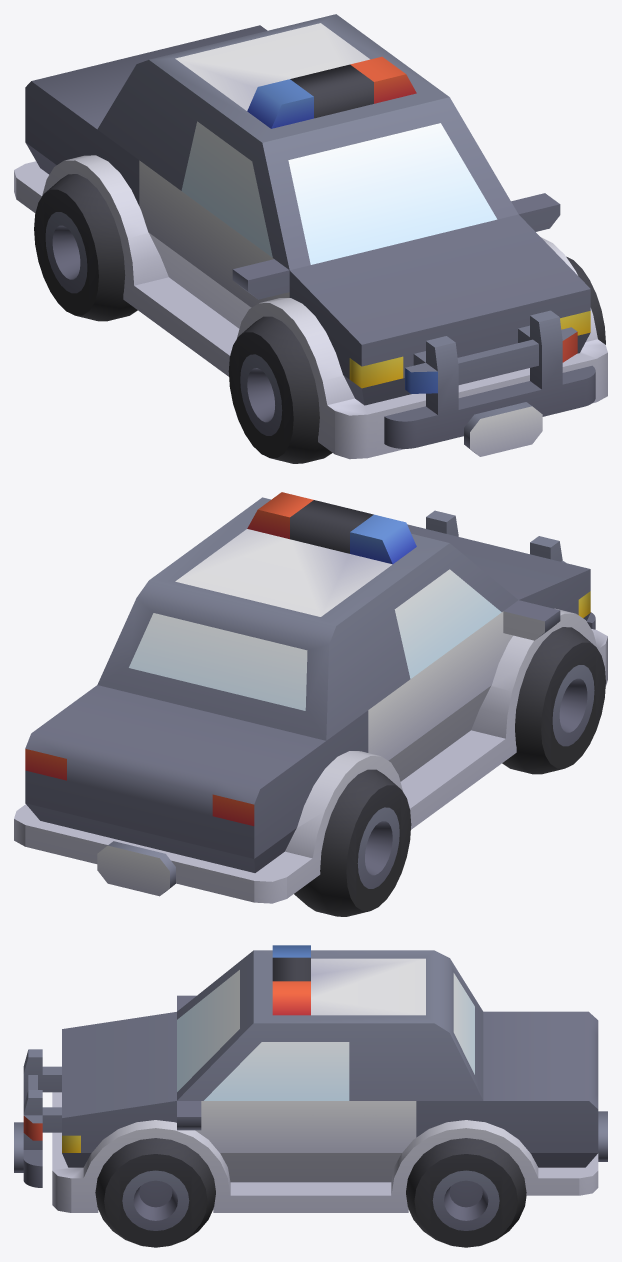
Rendered from car_police.glb.
3 renders of one model, top to bottom at view 1: azimuth 30°, elevation 25°; view 2: azimuth 150°, elevation 25°; view 3: azimuth 270°, elevation 25°, orthographic. The views are drawn at different scales.
Visible parts, largest first — view 1: body, grill, wheel_fl_mesh, wheel_rl_mesh, wheel_fr_mesh; view 2: body, wheel_rl_mesh, wheel_fl_mesh, grill; view 3: body, wheel_rr_mesh, wheel_fr_mesh, grill.
Boxes of the visible parts, box(x1,y1,x2,y2) form: body: box(14, 14, 607, 459); grill: box(384, 310, 595, 456); wheel_fl_mesh: box(228, 316, 332, 463); wheel_rl_mesh: box(34, 174, 137, 321); wheel_fr_mesh: box(566, 256, 605, 344); body: box(14, 492, 607, 903); wheel_rl_mesh: box(294, 769, 411, 916); wheel_fl_mesh: box(502, 627, 605, 774); grill: box(426, 510, 595, 629); body: box(52, 945, 607, 1212); wheel_rr_mesh: box(406, 1138, 526, 1247); wheel_fr_mesh: box(95, 1138, 215, 1247); grill: box(14, 1049, 61, 1187).
Bounding box in the file's own units: 1.77 × 1.53 × 3.66.
1 material, 1 textured.
